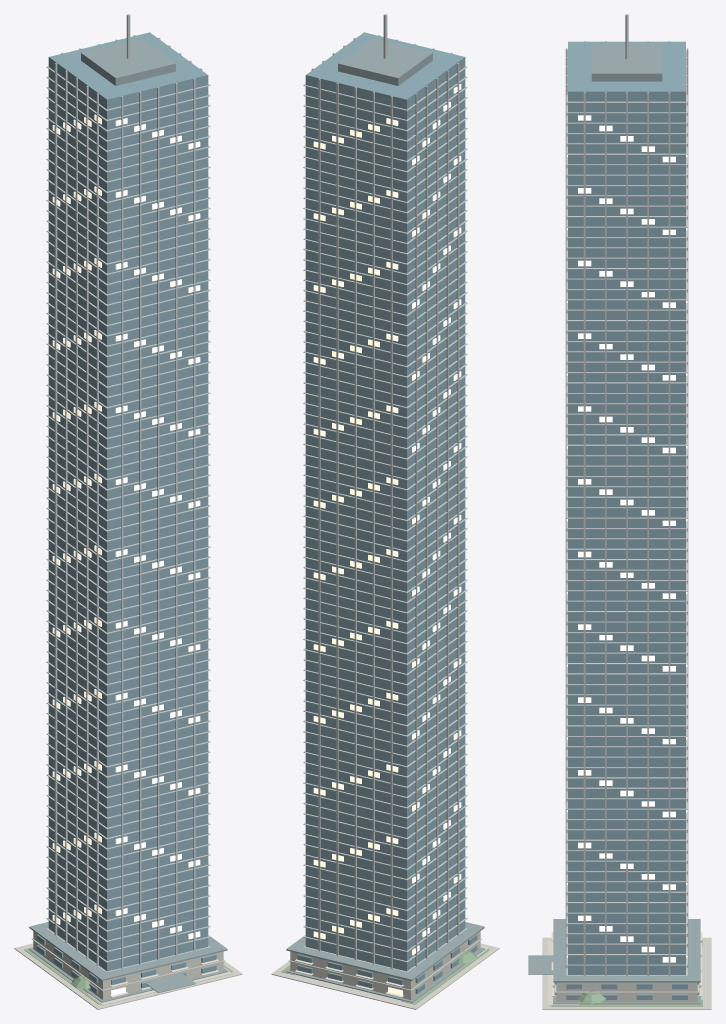
File: remaster_skyscraper_11.glb
3 renders of one model, left to right at view 1: azimuth 30°, elevation 25°; view 2: azimuth 150°, elevation 25°; view 3: azimuth 270°, elevation 25°, orthographic.
Visible parts, largest first — view 1: remaster_skyscraper_11 glass, remaster_skyscraper_11 metal, remaster_skyscraper_11 warm, remaster_skyscraper_11 roof, remaster_skyscraper_11 stone; view 2: remaster_skyscraper_11 glass, remaster_skyscraper_11 metal, remaster_skyscraper_11 warm, remaster_skyscraper_11 roof, remaster_skyscraper_11 stone; view 3: remaster_skyscraper_11 glass, remaster_skyscraper_11 metal, remaster_skyscraper_11 roof, remaster_skyscraper_11 warm, remaster_skyscraper_11 stone, remaster_skyscraper_11 green.
Boxes of the visible parts, left/top/right/bottom form: remaster_skyscraper_11 glass: left=36, top=32, right=216, bottom=993; remaster_skyscraper_11 metal: left=46, top=14, right=210, bottom=972; remaster_skyscraper_11 warm: left=52, top=114, right=200, bottom=995; remaster_skyscraper_11 roof: left=28, top=38, right=228, bottom=1002; remaster_skyscraper_11 stone: left=14, top=931, right=242, bottom=1009; remaster_skyscraper_11 glass: left=297, top=32, right=477, bottom=993; remaster_skyscraper_11 metal: left=303, top=14, right=467, bottom=972; remaster_skyscraper_11 warm: left=313, top=84, right=461, bottom=995; remaster_skyscraper_11 roof: left=285, top=38, right=484, bottom=1002; remaster_skyscraper_11 stone: left=271, top=931, right=499, bottom=1009; remaster_skyscraper_11 glass: left=554, top=41, right=699, bottom=999; remaster_skyscraper_11 metal: left=565, top=14, right=688, bottom=975; remaster_skyscraper_11 roof: left=528, top=43, right=700, bottom=1004; remaster_skyscraper_11 warm: left=566, top=115, right=687, bottom=962; remaster_skyscraper_11 stone: left=542, top=937, right=711, bottom=1009; remaster_skyscraper_11 green: left=551, top=940, right=702, bottom=1006.
Size of the model in its own units: 38.58 by 240 by 41.6.
